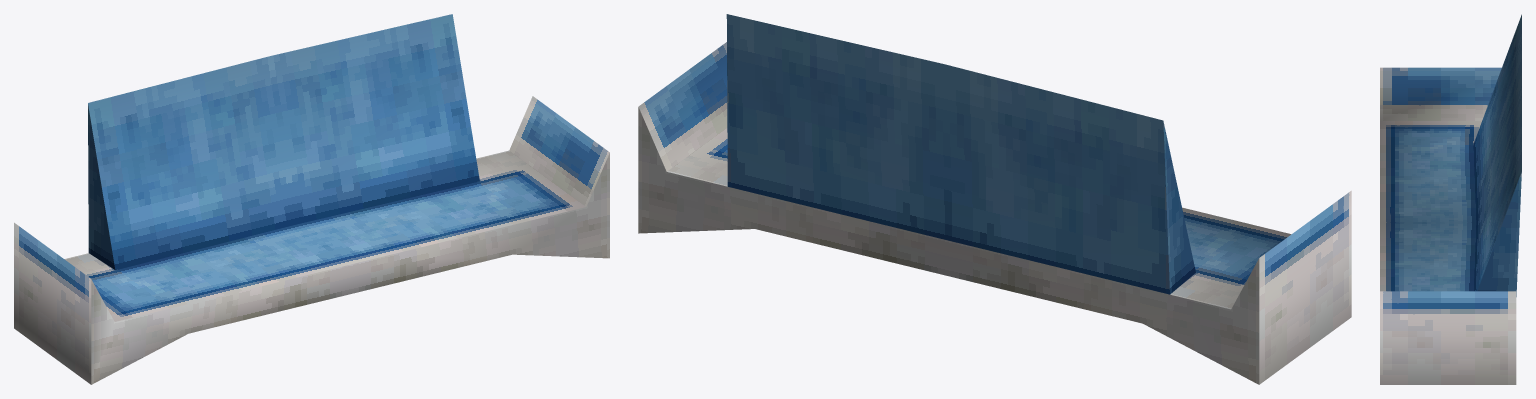
Rendered from frn_all_mdrn_couch_s02_l2.fbx.
3 renders of one model, left to right at view 1: azimuth 30°, elevation 25°; view 2: azimuth 150°, elevation 25°; view 3: azimuth 270°, elevation 25°, orthographic. The views are drawn at different scales.
Visible parts, largest first — view 1: mesh_node; view 2: mesh_node; view 3: mesh_node.
Part boxes in pixels (left/top/right/bottom): mesh_node: left=14, top=14, right=609, bottom=384; mesh_node: left=638, top=14, right=1351, bottom=384; mesh_node: left=1380, top=14, right=1521, bottom=384.
Size of the model in its own units: 3.88 by 1.48 by 1.04.
